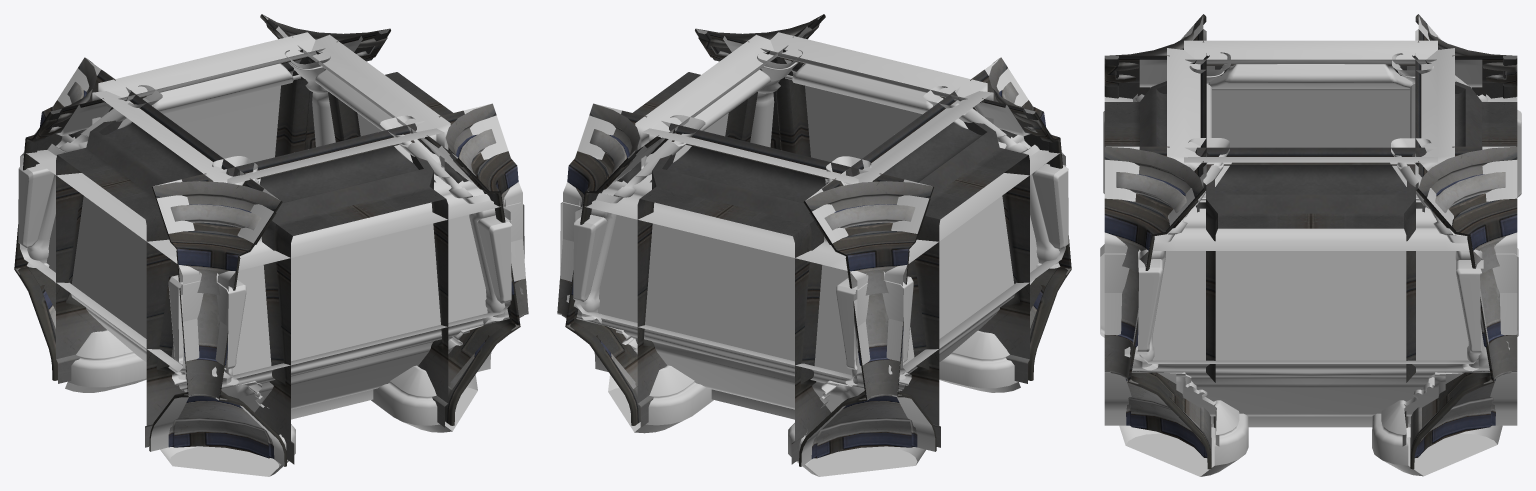
File: Interior Walls.fbx
The picture shows the model from 3 angles, left to right: view 1: azimuth 30°, elevation 25°; view 2: azimuth 150°, elevation 25°; view 3: azimuth 270°, elevation 25°; orthographic projection. The views are drawn at different scales.
Parts seen in each view (by area): view 1: Cell_Default_North, Cell_Door_North, Cell_Door_East, Interior_Wall_Inverse_Corner_Cap_1, Cell_Default_East, Cell_Default_South, Cell_Window_North, Cell_Corner_Pillar_NW, Cell_Corner_Pillar_SE, Cell_Door_South, Cell_Corner_Pillar_NE, Cell_Door_West (+8 smaller); view 2: Cell_Default_South, Cell_Door_South, Cell_Door_East, Interior_Wall_Inverse_Corner_Cap_2_1, Cell_Default_East, Cell_Default_North, Cell_Window_South, Cell_Corner_Pillar_SW, Cell_Corner_Pillar_NE, Cell_Door_North, Cell_Corner_Pillar_SE, Cell_Window_East (+8 smaller); view 3: Cell_Default_West, Cell_Door_West, Cell_Default_East, Cell_Window_West, Interior_Wall_Inverse_Corner_Cap_2_2, Interior_Wall_Inverse_Corner_Cap_4, Cell_Corner_Pillar_NW, Cell_Corner_Pillar_SW, Cell_Door_South, Cell_Door_North, Cell_Window_East, Cell_Default_South (+8 smaller).
Part boxes in pixels (x1,y1,x2,y2): Cell_Default_North: [150, 104, 528, 451]; Cell_Door_North: [149, 110, 468, 464]; Cell_Door_East: [56, 58, 286, 466]; Interior_Wall_Inverse_Corner_Cap_1: [152, 181, 280, 458]; Cell_Default_East: [46, 58, 284, 466]; Cell_Default_South: [50, 28, 389, 162]; Cell_Window_North: [181, 146, 528, 391]; Cell_Corner_Pillar_NW: [371, 115, 524, 432]; Cell_Corner_Pillar_SE: [18, 85, 162, 392]; Cell_Door_South: [14, 29, 390, 380]; Cell_Corner_Pillar_NE: [160, 156, 295, 476]; Cell_Door_West: [260, 14, 520, 425]; Cell_Default_South: [557, 104, 935, 451]; Cell_Door_South: [617, 110, 936, 464]; Cell_Door_East: [799, 58, 1029, 466]; Interior_Wall_Inverse_Corner_Cap_2_1: [805, 181, 933, 458]; Cell_Default_East: [801, 58, 1038, 466]; Cell_Default_North: [696, 28, 1035, 161]; Cell_Window_South: [557, 187, 903, 396]; Cell_Corner_Pillar_SW: [560, 115, 713, 433]; Cell_Corner_Pillar_NE: [923, 86, 1068, 392]; Cell_Door_North: [695, 29, 1071, 380]; Cell_Corner_Pillar_SE: [788, 156, 925, 476]; Cell_Window_East: [854, 139, 1065, 398]; Cell_Default_West: [1104, 146, 1517, 427]; Cell_Door_West: [1139, 146, 1482, 446]; Cell_Default_East: [1104, 40, 1517, 147]; Cell_Window_West: [1104, 227, 1517, 371]; Interior_Wall_Inverse_Corner_Cap_2_2: [1414, 146, 1517, 457]; Interior_Wall_Inverse_Corner_Cap_4: [1104, 146, 1207, 457]; Cell_Corner_Pillar_NW: [1100, 138, 1248, 476]; Cell_Corner_Pillar_SW: [1372, 138, 1518, 476]; Cell_Door_South: [1410, 14, 1517, 469]; Cell_Door_North: [1104, 14, 1211, 469]; Cell_Window_East: [1206, 64, 1415, 88]; Cell_Default_South: [1415, 15, 1494, 381].
Size of the model in its own units: 4.08 by 3.17 by 4.08.
